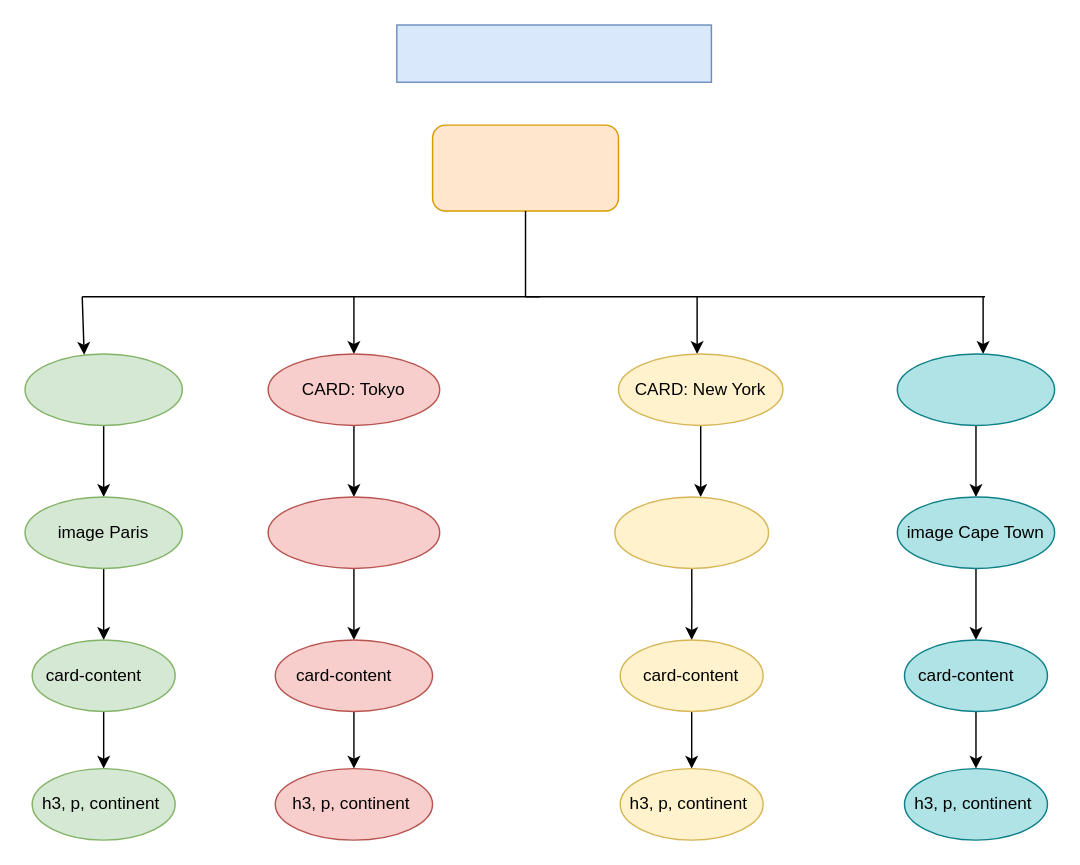
This 1080x865 diagram has some shape labels left out. Each missing label, with the box of its shape:
CARD: Cape Town: (896, 352, 1055, 425)
CARD: Paris: (24, 352, 182, 425)
CARDS CONTAINER: (431, 124, 618, 211)
Explore Travel Destinations: (395, 24, 711, 82)
image New York: (613, 495, 769, 568)
image Tokyo: (267, 495, 440, 568)
